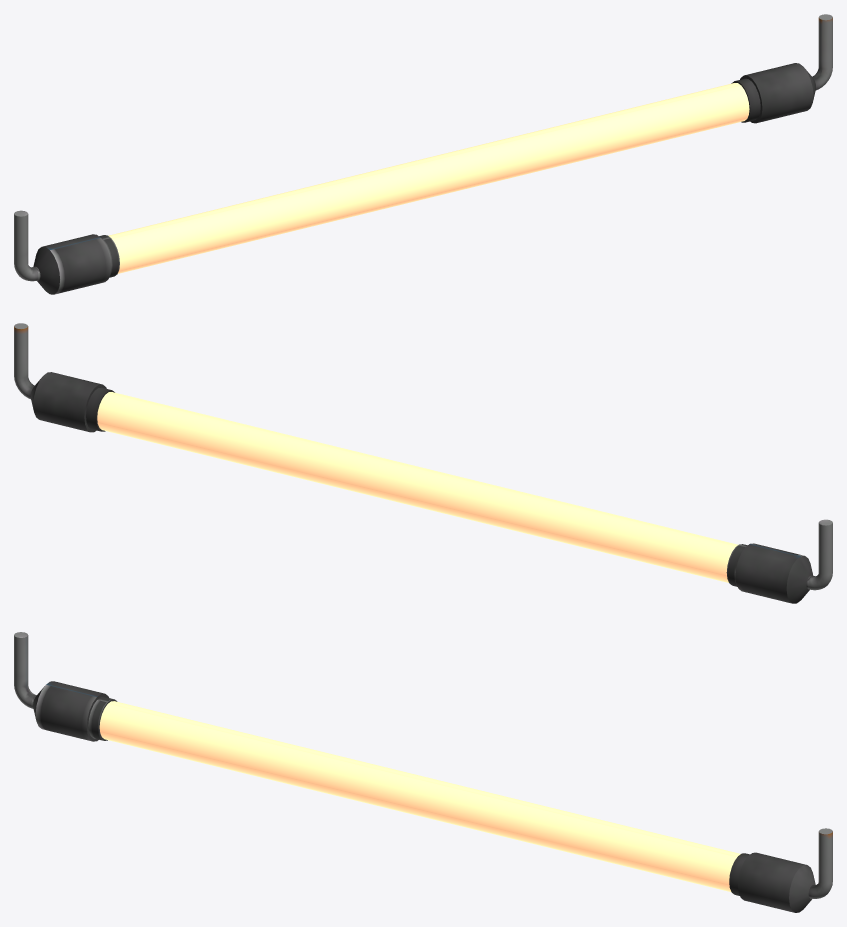
Rendered from SM_LampA02.gltf.
The picture shows the model from 3 angles, top to bottom: view 1: azimuth 30°, elevation 25°; view 2: azimuth 150°, elevation 25°; view 3: azimuth 330°, elevation 25°; orthographic projection.
Visible parts, largest first — view 1: SM_LampA02; view 2: SM_LampA02; view 3: SM_LampA02.
Boxes of the visible parts, x1=… form: SM_LampA02: x1=14, y1=14, x2=832, y2=294; SM_LampA02: x1=14, y1=323, x2=832, y2=603; SM_LampA02: x1=14, y1=632, x2=832, y2=912.
Bounding box in the file's own units: 1.67 × 0.1672 × 0.0873.
Materials: 1 (1 with a texture image).
